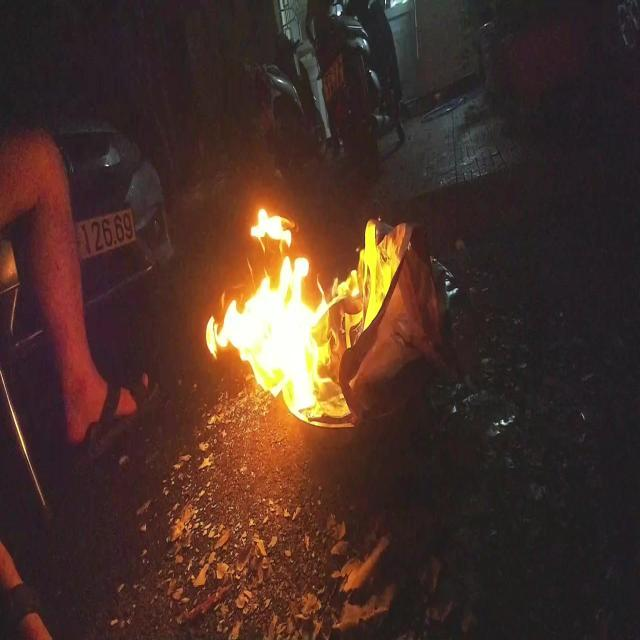Fire: (204, 202, 406, 422)
